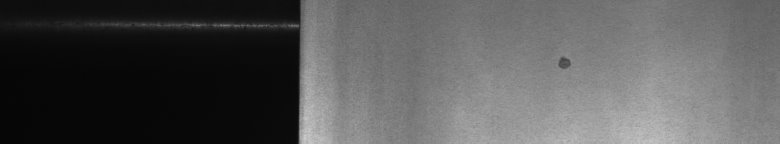fi: (555, 49, 574, 76)
